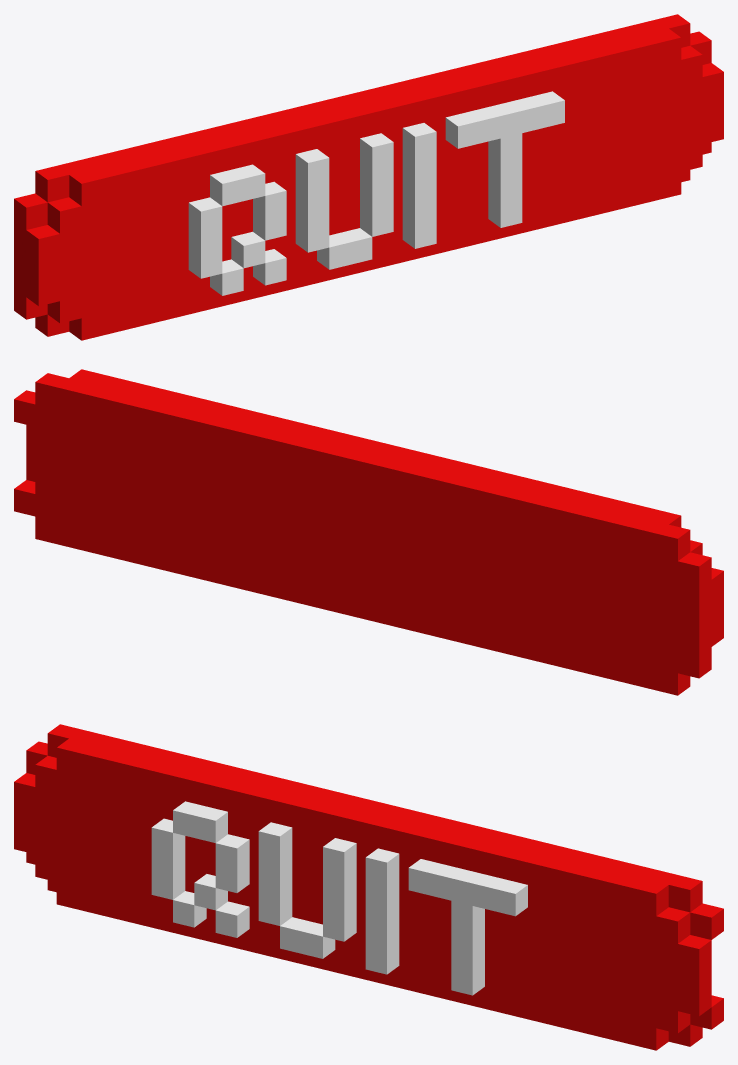
The model's file is quit.obj.
3 views of the same model, one above another, from view 1: azimuth 30°, elevation 25°; view 2: azimuth 150°, elevation 25°; view 3: azimuth 330°, elevation 25° (orthographic).
Parts seen in each view (by area): view 1: quit; view 2: quit; view 3: quit.
Part boxes in pixels (x1=…): quit: x1=14, y1=14, x2=723, y2=340; quit: x1=14, y1=369, x2=723, y2=695; quit: x1=14, y1=724, x2=723, y2=1050.
Size of the model in its own units: 32 by 7 by 3.
1 material, 1 textured.
